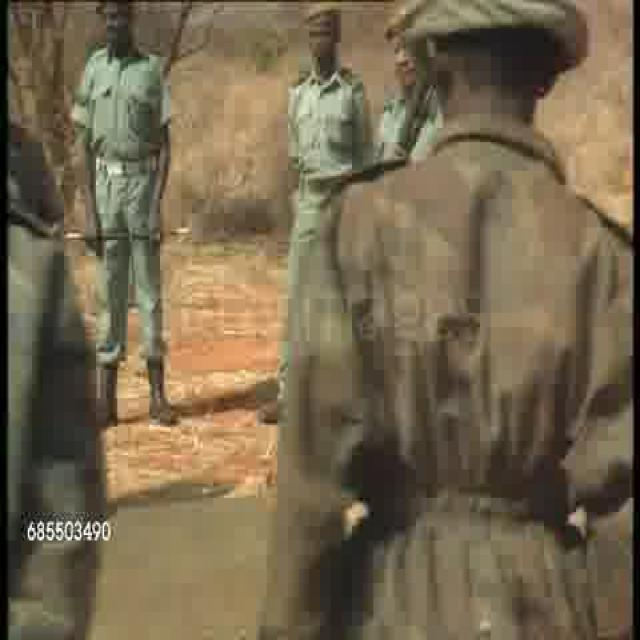poacher: (276, 1, 640, 606), (74, 4, 188, 438), (288, 2, 356, 192)
